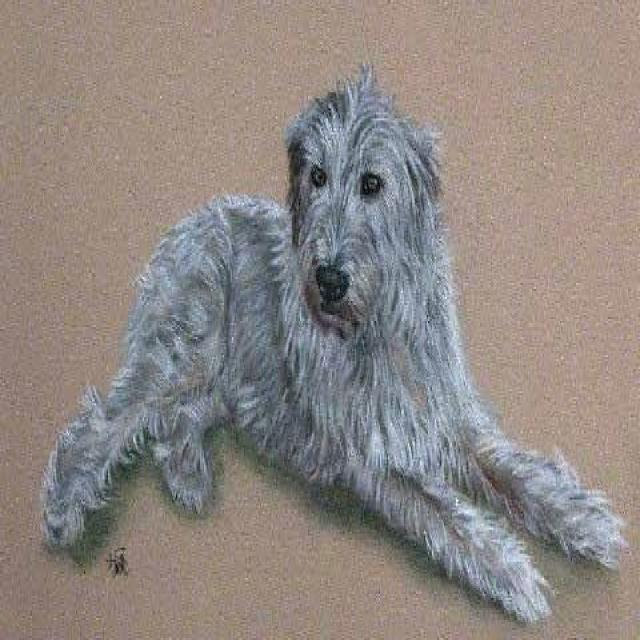irish_wolfhound: (35, 50, 629, 634)
